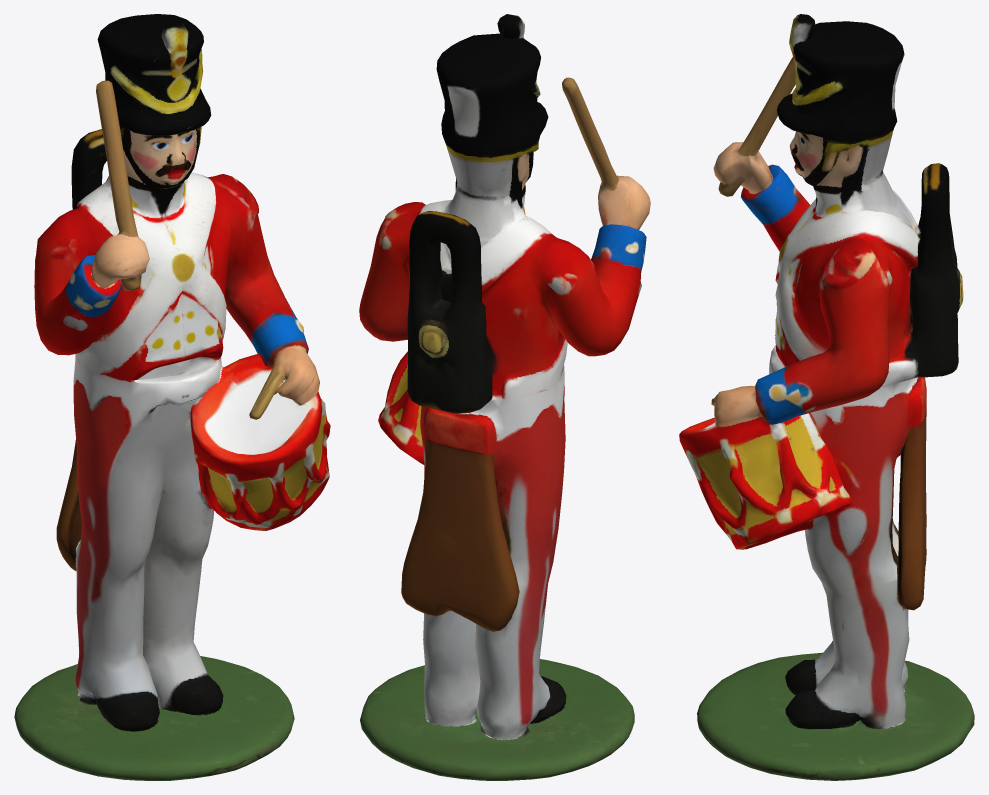
Rendered from drummer.glb.
The picture shows the model from 3 angles, left to right: view 1: azimuth 30°, elevation 25°; view 2: azimuth 150°, elevation 25°; view 3: azimuth 270°, elevation 25°; orthographic projection. The views are drawn at different scales.
Parts seen in each view (by area): view 1: world; view 2: world; view 3: world.
Part boxes in pixels (bbox=[...]): world: bbox=[14, 14, 330, 780]; world: bbox=[359, 14, 650, 780]; world: bbox=[679, 14, 974, 780].
Size of the model in its own units: 0.3852 by 1 by 0.3779.
Materials: 1 (1 with a texture image).
